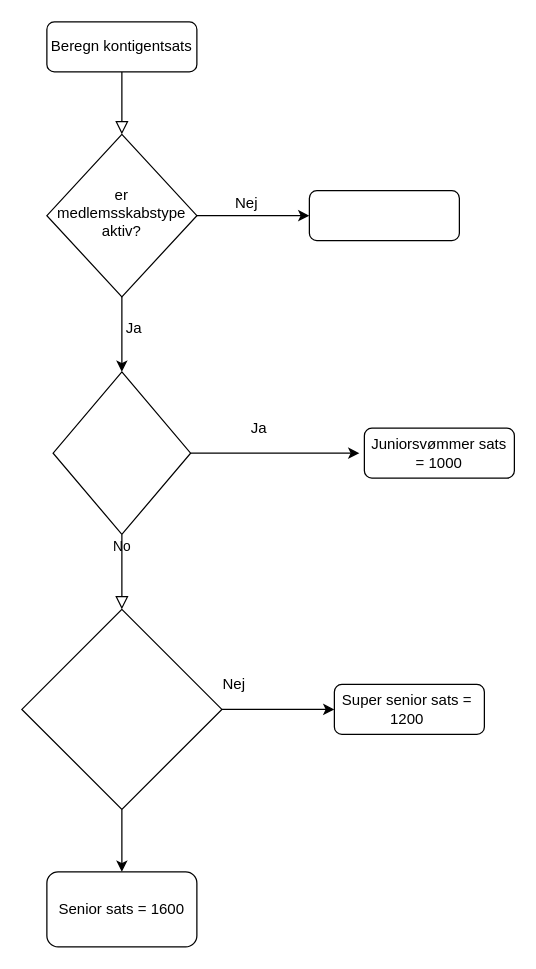
Image size: 536x969. Some labels were removed from this diagram. Here are the shapes that lost their labels. From the top down, the centre of each, then its label:
[383,215]: Passivt medlemsskab = 500
[121,452]: Er medlemmet <18 år?
[121,708]: Er medlemmet >= 60 år?
